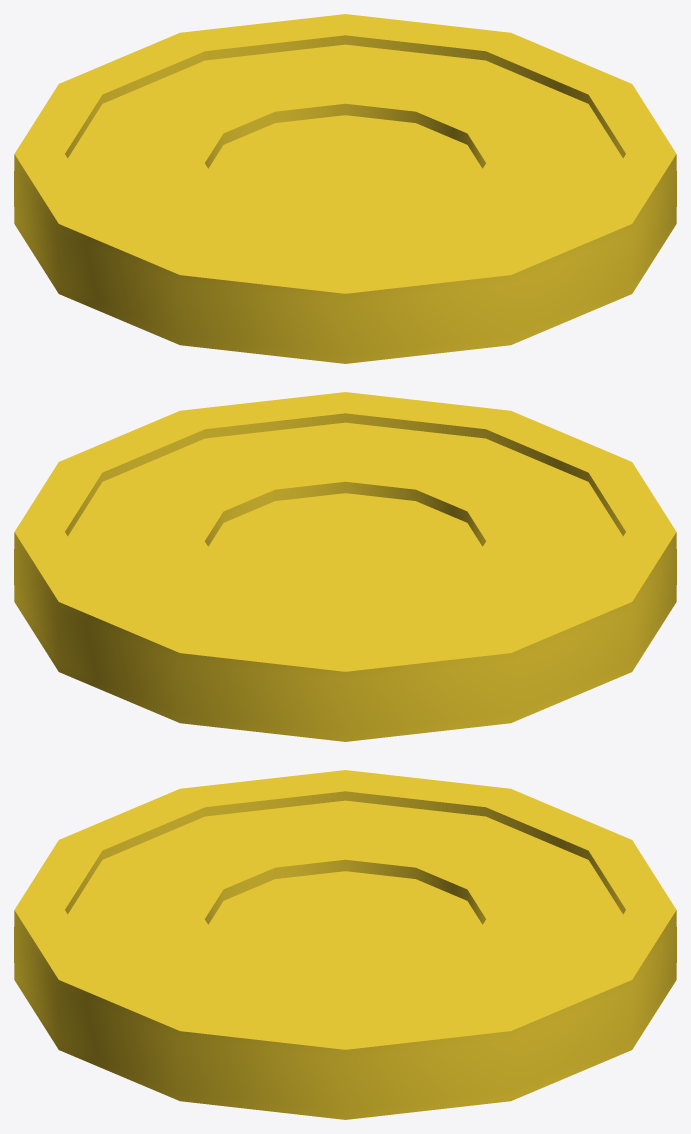
The model's file is Coin_1.fbx.
3 views of the same model, one above another, from view 1: azimuth 30°, elevation 25°; view 2: azimuth 150°, elevation 25°; view 3: azimuth 270°, elevation 25° (orthographic).
Visible parts, largest first — view 1: pDisc1; view 2: pDisc1; view 3: pDisc1.
Boxes of the visible parts, left/top/right/bottom form: pDisc1: left=14, top=14, right=676, bottom=363; pDisc1: left=14, top=392, right=676, bottom=741; pDisc1: left=14, top=770, right=676, bottom=1119.
Bounding box in the file's own units: 16.35 × 1.91 × 16.35.
